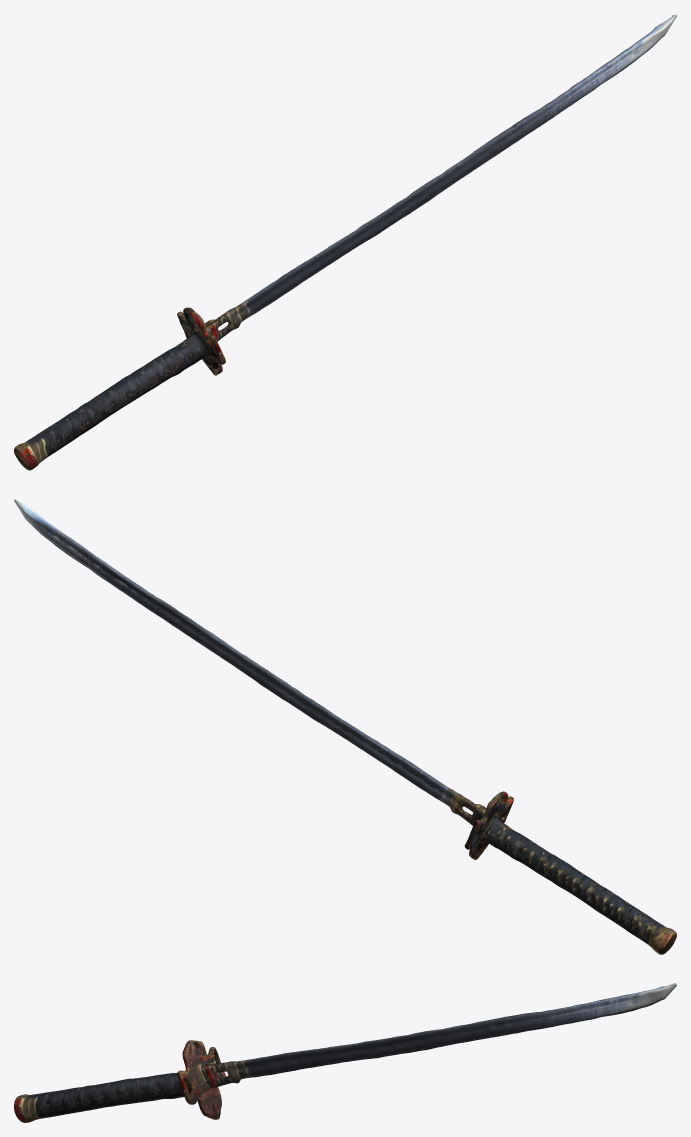
File: A_low_poly_thermal_ka_0217023153_texture.fbx
3 renders of one model, top to bottom at view 1: azimuth 30°, elevation 25°; view 2: azimuth 150°, elevation 25°; view 3: azimuth 330°, elevation 25°, orthographic.
Parts seen in each view (by area): view 1: Mesh0; view 2: Mesh0; view 3: Mesh0.
Boxes of the visible parts, x1,y1,x2,y2 form: Mesh0: (14,14,676,470); Mesh0: (14,499,676,954); Mesh0: (14,983,676,1122).
Size of the model in its own units: 200 by 85.78 by 18.98.
1 material, 1 textured.
